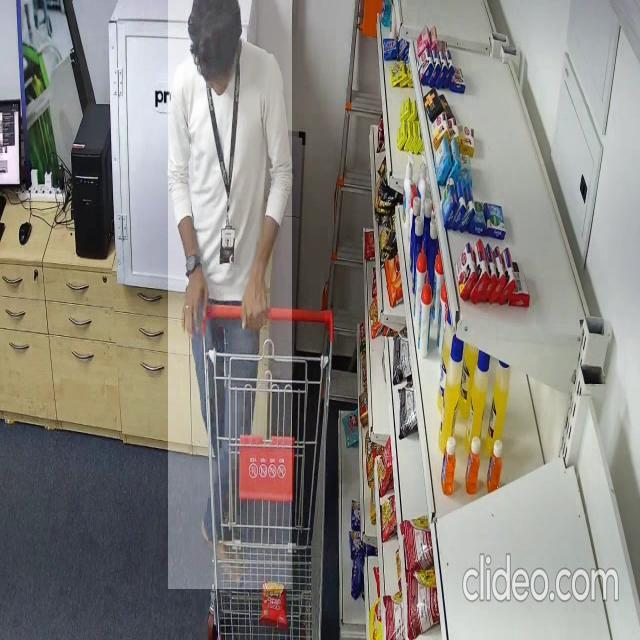normal: (168, 0, 292, 589)
